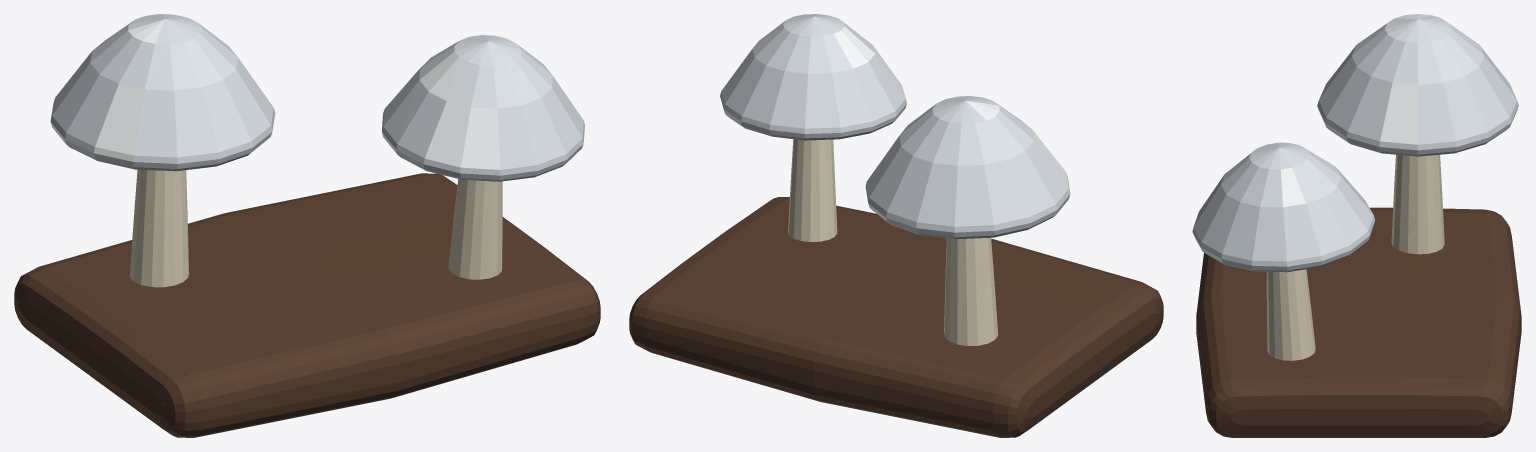
Rendered from CropGlowcapFar.obj.
The picture shows the model from 3 angles, left to right: view 1: azimuth 30°, elevation 25°; view 2: azimuth 150°, elevation 25°; view 3: azimuth 270°, elevation 25°; orthographic projection. The views are drawn at different scales.
Bounding box in the file's own units: 3.05 × 2.14 × 2.23.
